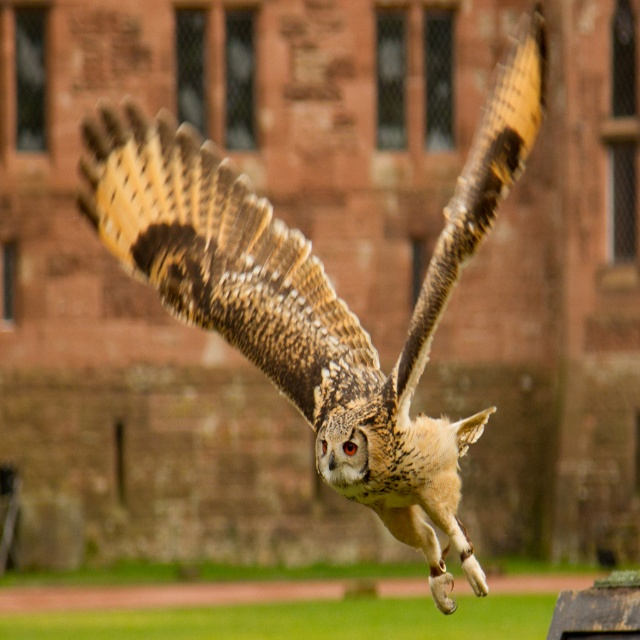Owl: (72, 6, 550, 617)
